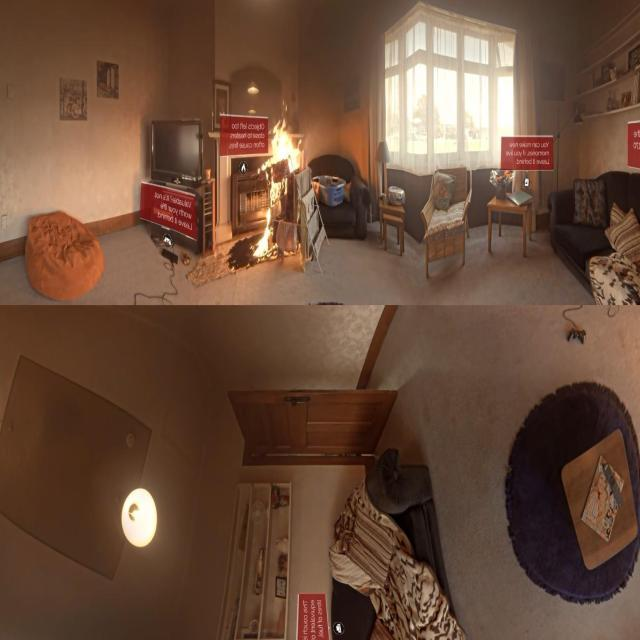smoke: (260, 102, 302, 172), (252, 208, 273, 258), (268, 175, 288, 208)
